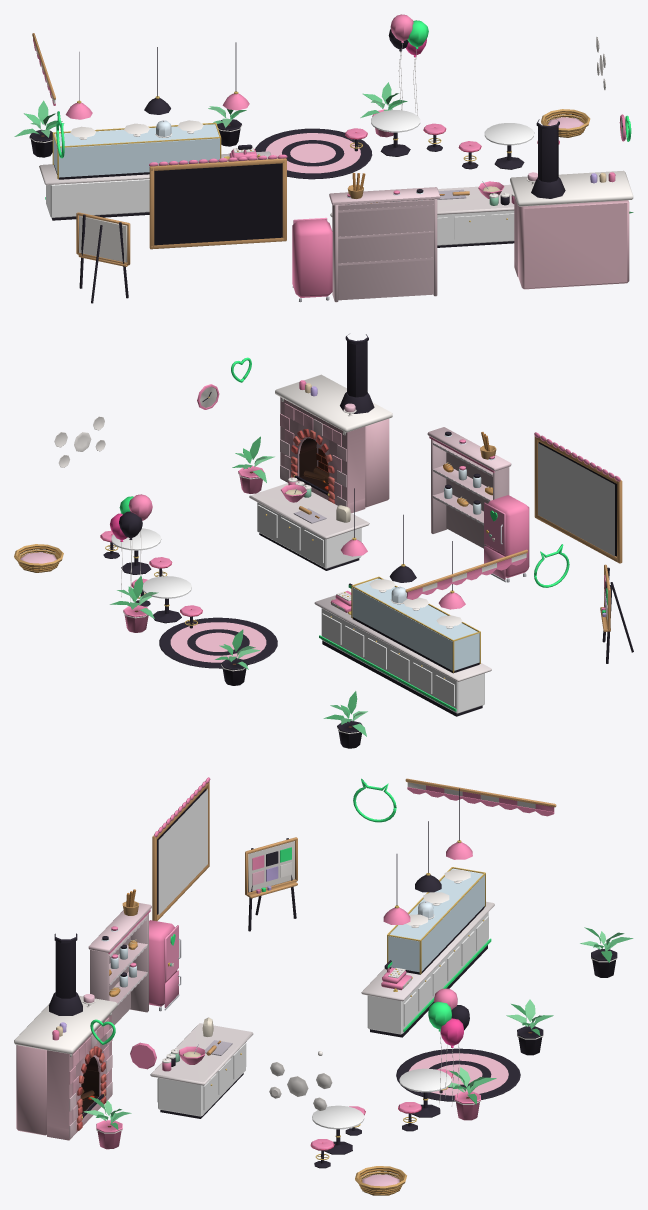
File: zon_room_bakery_lite.glb
The picture shows the model from 3 angles, top to bottom: view 1: azimuth 30°, elevation 25°; view 2: azimuth 150°, elevation 25°; view 3: azimuth 270°, elevation 25°; orthographic projection. The views are drawn at different scales.
Visible parts, largest first — view 1: SM_zon_room_bakery_lite_room_floor_plaster_xm1_z1, SM_zon_room_bakery_lite_room_floor_wood_xm1_z1, SM_zon_room_bakery_lite_room_floor_gloss_xm1_z1, SM_zon_room_bakery_lite_room_floor_glaze_xm1_z1, SM_zon_room_bakery_lite_kit_interior_xm1_z1, SM_zon_room_bakery_lite_bakery_glass_xm1_z1, SM_zon_room_bakery_lite_room_floor_fabric_xm1_z1, ANIM_fur_bk_decor_lite_plant_2__0, ANIM_fur_bk_decor_lite_basket__0, ANIM_fur_bk_decor_lite_plant_1__0, ANIM_fur_bk_decor_lite_plant_0__0, ANIM_fur_bk_decor_lite_balloon_3__0 (+1 smaller); view 2: SM_zon_room_bakery_lite_room_floor_gloss_xm1_z1, SM_zon_room_bakery_lite_room_floor_glaze_xm1_z1, SM_zon_room_bakery_lite_kit_interior_xm1_z1, SM_zon_room_bakery_lite_room_floor_plaster_xm1_z1, SM_zon_room_bakery_lite_room_floor_wood_xm1_z1, SCREEN_fur_bk_menu__0, SM_zon_room_bakery_lite_bakery_glass_xm1_z1, SM_zon_room_bakery_lite_room_floor_fabric_xm1_z1, ANIM_fur_bk_decor_lite_basket__0, ANIM_fur_bk_decor_lite_plant_0__0, ANIM_fur_bk_decor_lite_plant_2__0, ANIM_fur_bk_decor_lite_plant_1__0 (+2 smaller); view 3: SM_zon_room_bakery_lite_room_floor_gloss_xm1_z1, SM_zon_room_bakery_lite_room_floor_glaze_xm1_z1, SM_zon_room_bakery_lite_room_floor_plaster_xm1_z1, SM_zon_room_bakery_lite_kit_interior_xm1_z1, SM_zon_room_bakery_lite_room_floor_wood_xm1_z1, SM_zon_room_bakery_lite_bakery_glass_xm1_z1, SCREEN_fur_bk_menu__0, SM_zon_room_bakery_lite_room_floor_fabric_xm1_z1, ANIM_fur_bk_decor_lite_basket__0, ANIM_fur_bk_decor_lite_plant_1__0, ANIM_fur_bk_decor_lite_plant_0__0, ANIM_fur_bk_decor_lite_plant_2__0 (+3 smaller).
Boxes of the visible parts, box(x1,y1,x2,y2) form: SM_zon_room_bakery_lite_room_floor_plaster_xm1_z1: box(154, 133, 629, 289); SM_zon_room_bakery_lite_room_floor_wood_xm1_z1: box(32, 33, 469, 302); SM_zon_room_bakery_lite_room_floor_gloss_xm1_z1: box(51, 42, 626, 303); SM_zon_room_bakery_lite_room_floor_glaze_xm1_z1: box(39, 37, 633, 262); SM_zon_room_bakery_lite_kit_interior_xm1_z1: box(46, 110, 534, 245); SM_zon_room_bakery_lite_bakery_glass_xm1_z1: box(53, 124, 219, 177); SM_zon_room_bakery_lite_room_floor_fabric_xm1_z1: box(33, 38, 559, 198); ANIM_fur_bk_decor_lite_plant_2__0: box(14, 100, 64, 157); ANIM_fur_bk_decor_lite_basket__0: box(541, 109, 590, 137); ANIM_fur_bk_decor_lite_plant_1__0: box(208, 106, 246, 146); ANIM_fur_bk_decor_lite_plant_0__0: box(360, 82, 407, 137); ANIM_fur_bk_decor_lite_balloon_3__0: box(390, 14, 413, 110); SM_zon_room_bakery_lite_room_floor_gloss_xm1_z1: box(103, 334, 633, 716); SM_zon_room_bakery_lite_room_floor_glaze_xm1_z1: box(54, 374, 620, 681); SM_zon_room_bakery_lite_kit_interior_xm1_z1: box(111, 502, 484, 713); SM_zon_room_bakery_lite_room_floor_plaster_xm1_z1: box(170, 397, 616, 662); SM_zon_room_bakery_lite_room_floor_wood_xm1_z1: box(299, 427, 622, 631); SCREEN_fur_bk_menu__0: box(538, 443, 614, 556); SM_zon_room_bakery_lite_bakery_glass_xm1_z1: box(352, 578, 479, 670); SM_zon_room_bakery_lite_room_floor_fabric_xm1_z1: box(100, 443, 526, 668); ANIM_fur_bk_decor_lite_basket__0: box(14, 544, 63, 572); ANIM_fur_bk_decor_lite_plant_0__0: box(110, 575, 158, 632); ANIM_fur_bk_decor_lite_plant_2__0: box(323, 691, 367, 748); ANIM_fur_bk_decor_lite_plant_1__0: box(215, 629, 260, 685); SM_zon_room_bakery_lite_room_floor_gloss_xm1_z1: box(49, 788, 519, 1168); SM_zon_room_bakery_lite_room_floor_glaze_xm1_z1: box(14, 777, 494, 1138); SM_zon_room_bakery_lite_room_floor_plaster_xm1_z1: box(16, 788, 508, 1140); SM_zon_room_bakery_lite_kit_interior_xm1_z1: box(157, 912, 488, 1129); SM_zon_room_bakery_lite_room_floor_wood_xm1_z1: box(80, 778, 556, 1100); SM_zon_room_bakery_lite_bakery_glass_xm1_z1: box(388, 869, 484, 972); SCREEN_fur_bk_menu__0: box(158, 789, 207, 915); SM_zon_room_bakery_lite_room_floor_fabric_xm1_z1: box(109, 782, 554, 1150); ANIM_fur_bk_decor_lite_basket__0: box(355, 1166, 406, 1195); ANIM_fur_bk_decor_lite_plant_1__0: box(506, 999, 553, 1055); ANIM_fur_bk_decor_lite_plant_0__0: box(448, 1067, 496, 1120); ANIM_fur_bk_decor_lite_plant_2__0: box(580, 927, 633, 977).
Bounding box in the file's own units: 15.37 × 4.31 × 14.14.
